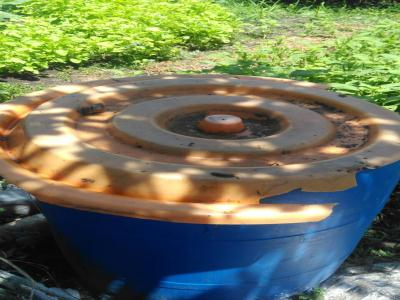bucket: (1, 70, 400, 300)
